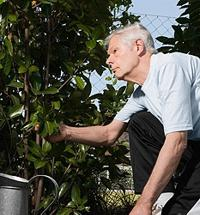person: (45, 23, 200, 215)
